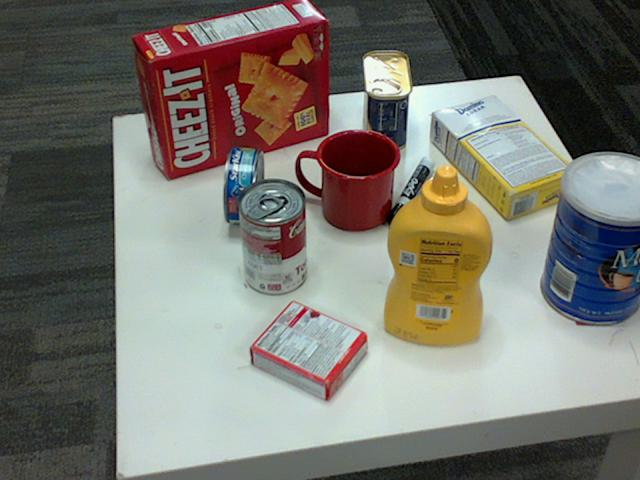cracker_box: (132, 0, 328, 176)
gelatin_box: (247, 300, 364, 403)
large_marker: (386, 160, 435, 226)
master_chef_can: (542, 152, 639, 325)
mug: (296, 127, 400, 230)
mustard_bottle: (383, 165, 493, 345)
potted_meat_can: (360, 52, 410, 151)
sugar_box: (430, 95, 579, 220)
tomato_soup_can: (237, 179, 307, 295)
tuna_fish_can: (222, 146, 264, 224)
